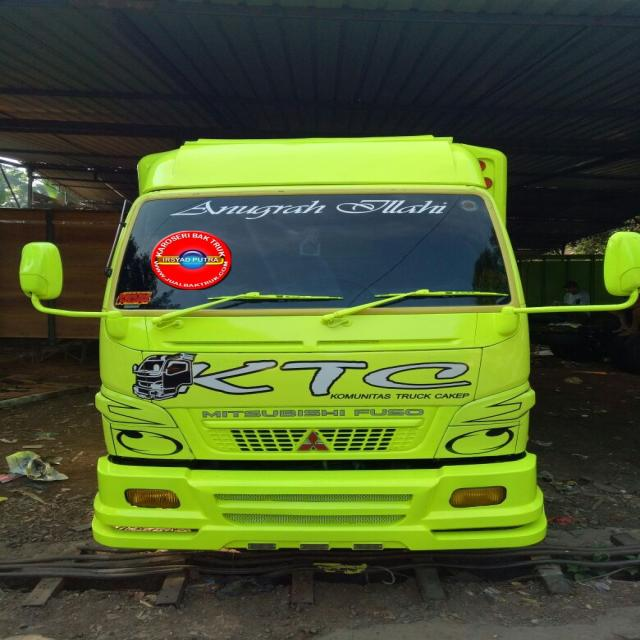truck: (16, 136, 639, 551)
